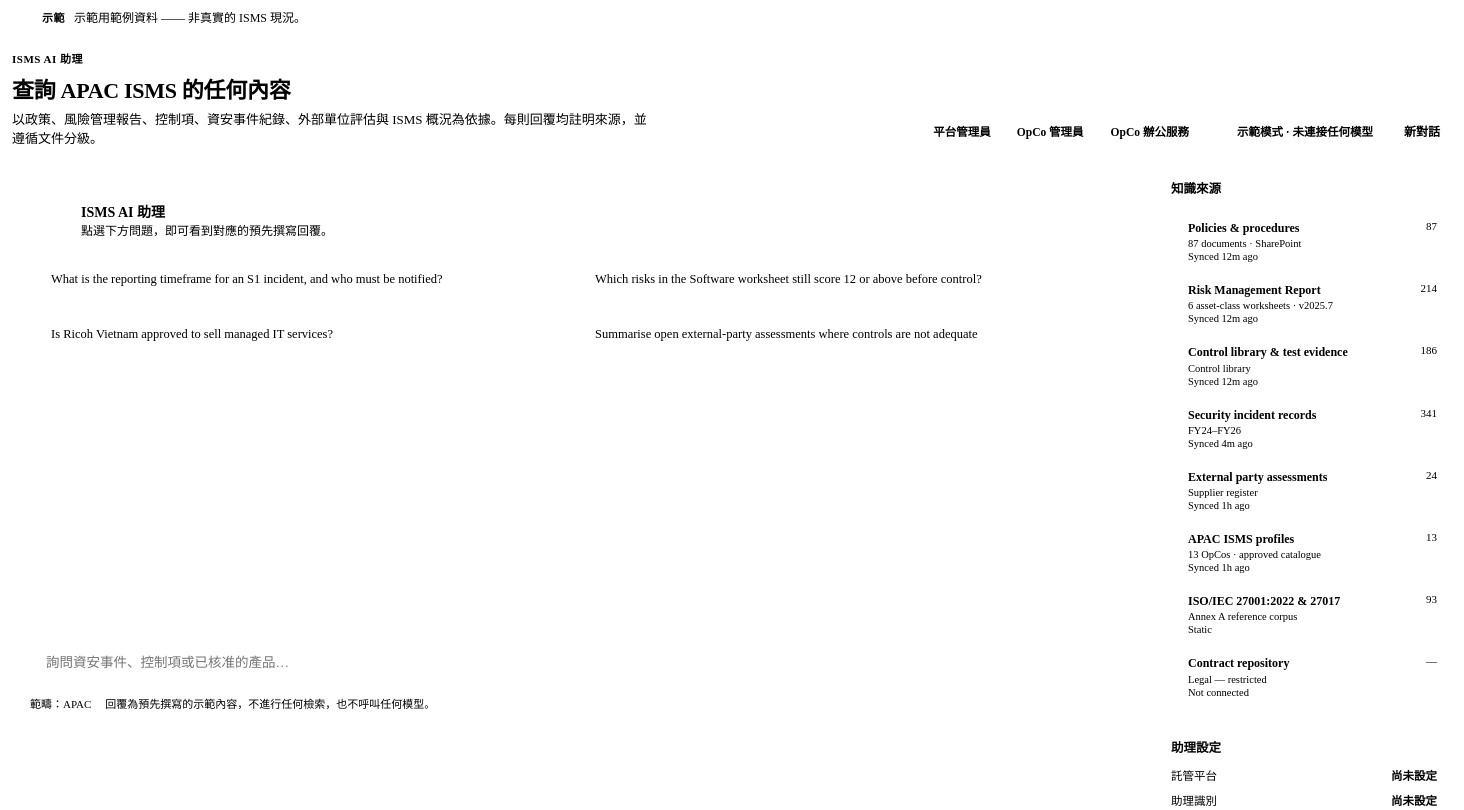
ai assistant — suggested prompts render fixture answers › What is the reporting timeframe for an S1 incident, and who must be notified? resolves to an answer with sources
Click the button "What is the reporting timeframe for an S1 incident, and who must be notified?".
click(303, 279)  # box [36,257,570,302]
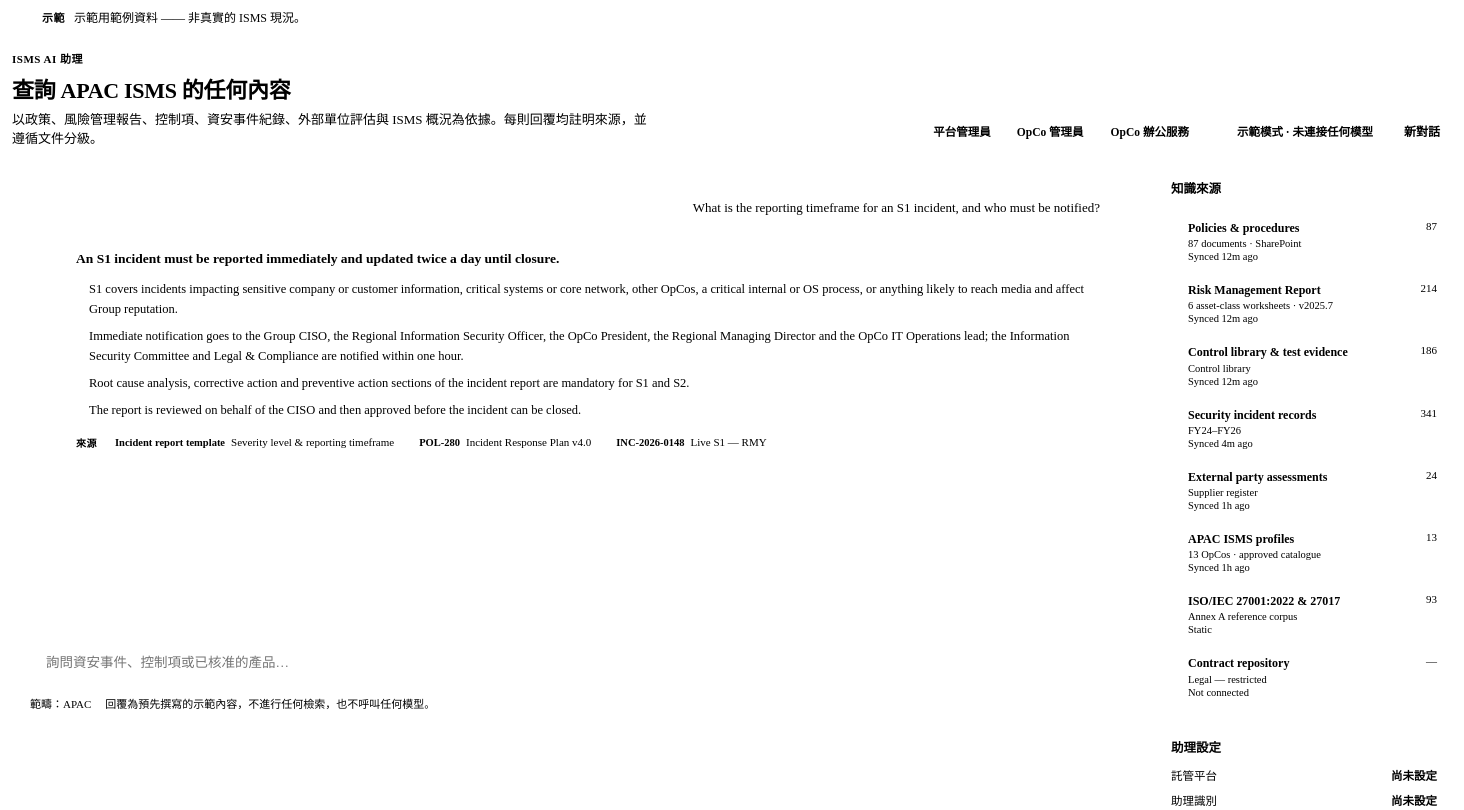
expect the text "What is the reporting timeframe for an S1 incident, and who must be notified?" is shown: met, box [693,200,1100,215]
expect the text "來源" is shown: met, box [76,435,97,450]
